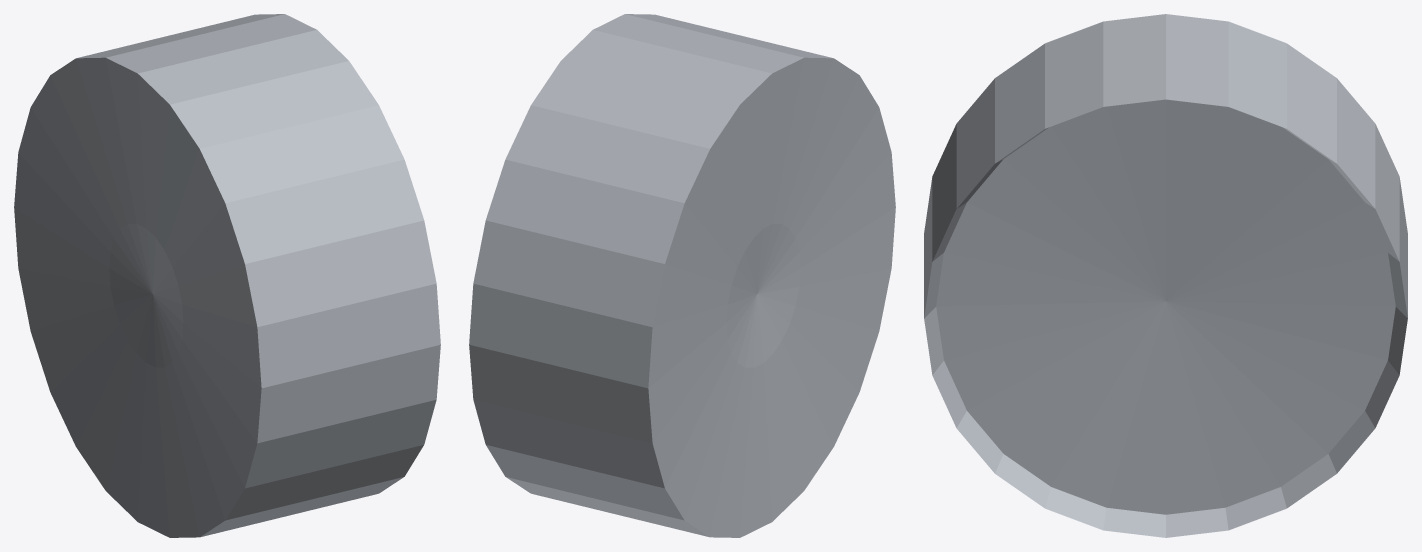
File: wheel_FL.glb
The picture shows the model from 3 angles, left to right: view 1: azimuth 30°, elevation 25°; view 2: azimuth 150°, elevation 25°; view 3: azimuth 270°, elevation 25°; orthographic projection. The views are drawn at different scales.
Visible parts, largest first — view 1: wheel_FL; view 2: wheel_FL; view 3: wheel_FL.
Boxes of the visible parts, x1=… form: wheel_FL: x1=14, y1=14, x2=440, y2=537; wheel_FL: x1=469, y1=14, x2=895, y2=537; wheel_FL: x1=924, y1=14, x2=1407, y2=537.
Bounding box in the file's own units: 0.1806 × 0.4318 × 0.4318.
Materials: 1 (1 with a texture image).
